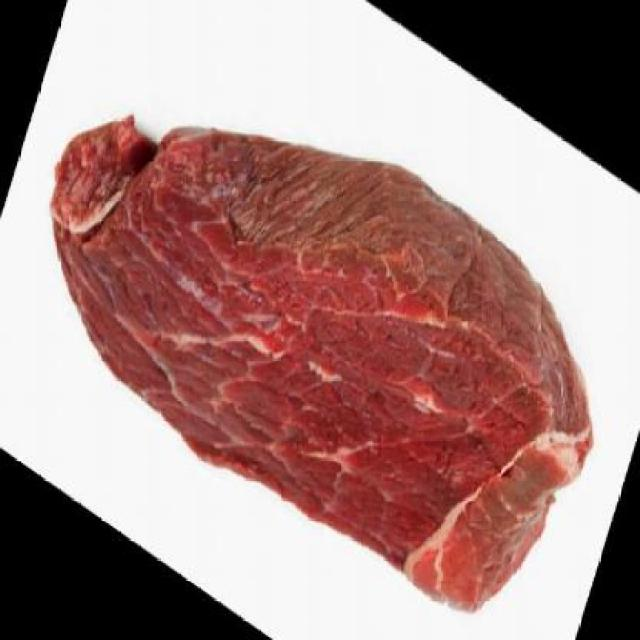beef: (56, 122, 594, 612)
